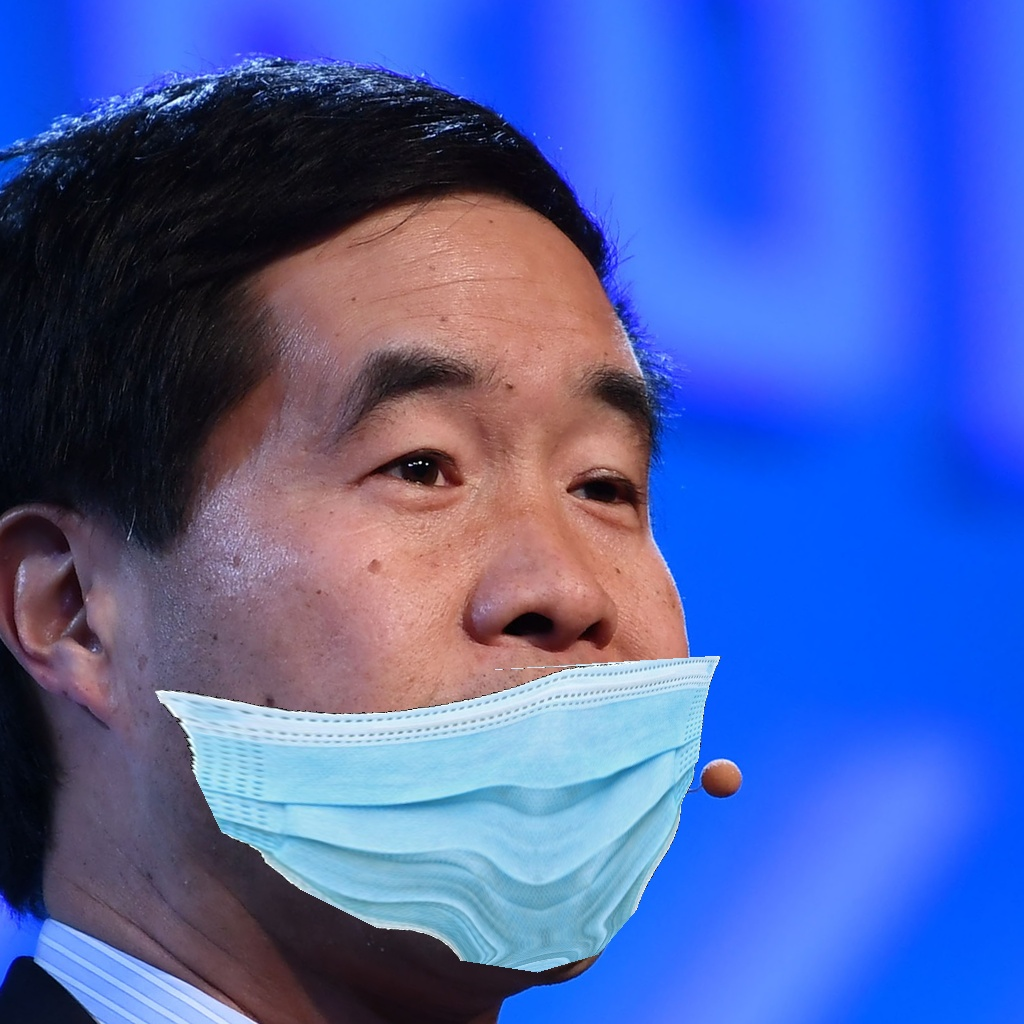mascarilla_mal_puesta: (47, 298, 767, 985)
